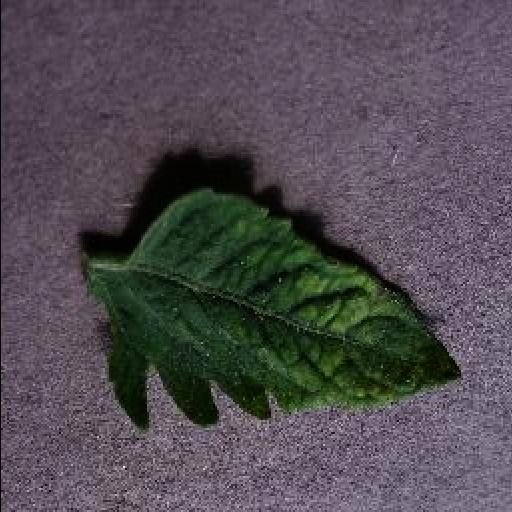Mosaic Virus: (100, 184, 468, 436)
